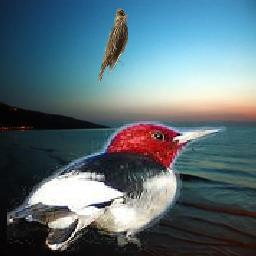Sparrow: (98, 8, 129, 82)
Woodpecker: (7, 122, 227, 253)
